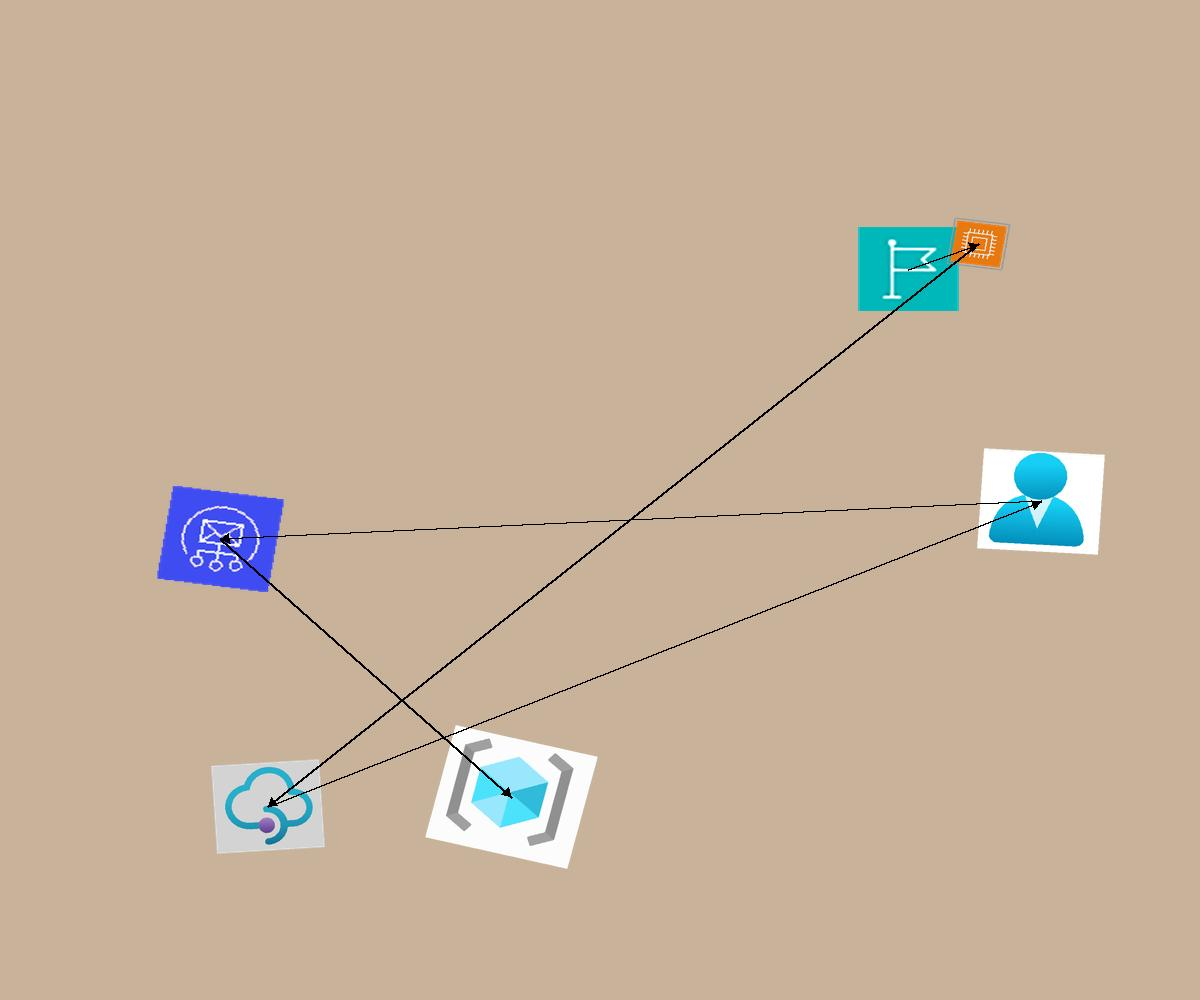AWS-Category_Compute: (946, 217, 1011, 271)
AWS-Region: (857, 226, 960, 312)
AWS-Simple-Email-Service: (156, 485, 285, 593)
Azure_api_gateway: (211, 759, 325, 854)
Azure_resource_group: (425, 725, 598, 869)
Azure_users: (977, 448, 1105, 555)
